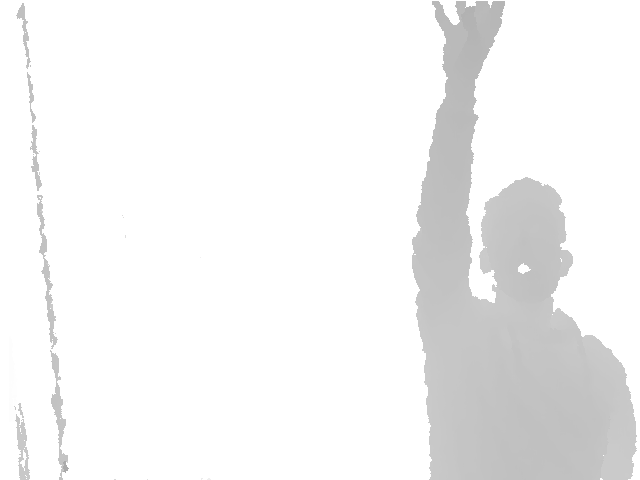hand: (433, 1, 505, 90)
head: (478, 176, 574, 304)
person: (411, 1, 638, 480)
